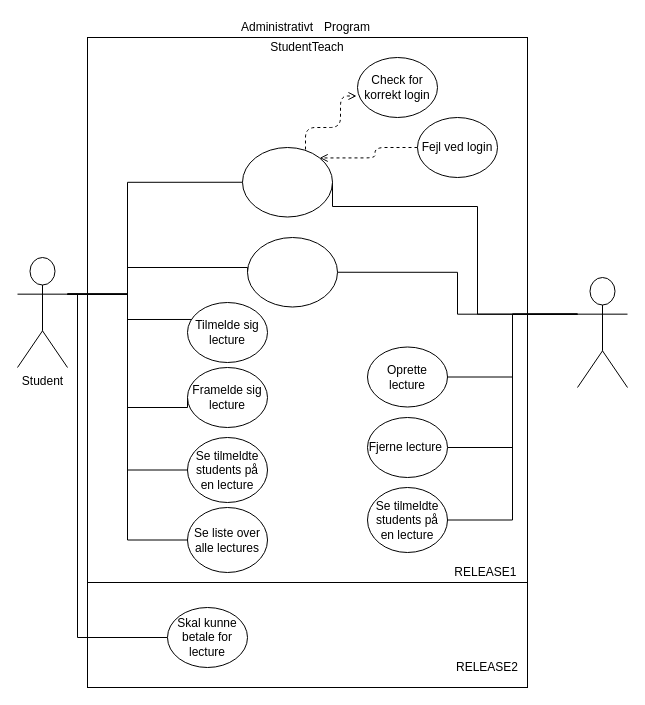
Image size: 645x705. Some labels were removed from this diagram. Here are the shapes that lost their labels. From the top down, the centre of each, then its label:
the point at 287,181: Login
the point at 292,271: Registrering
the point at 602,332: Teacher
